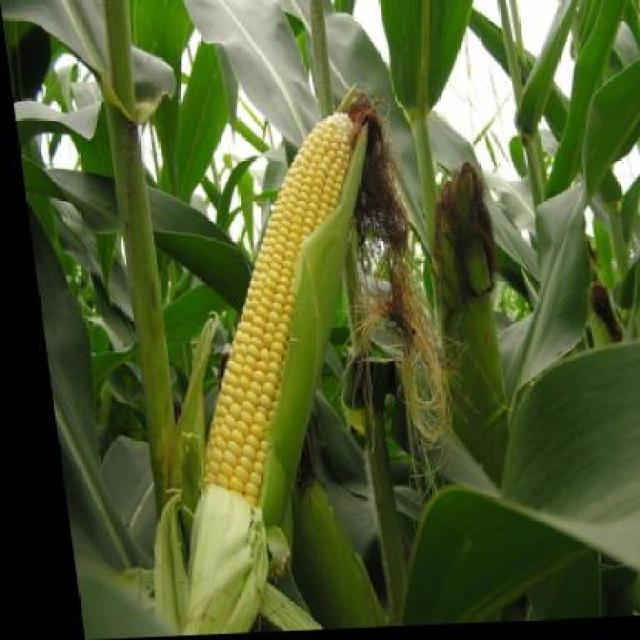Corn: (122, 69, 424, 514), (354, 135, 566, 560)
